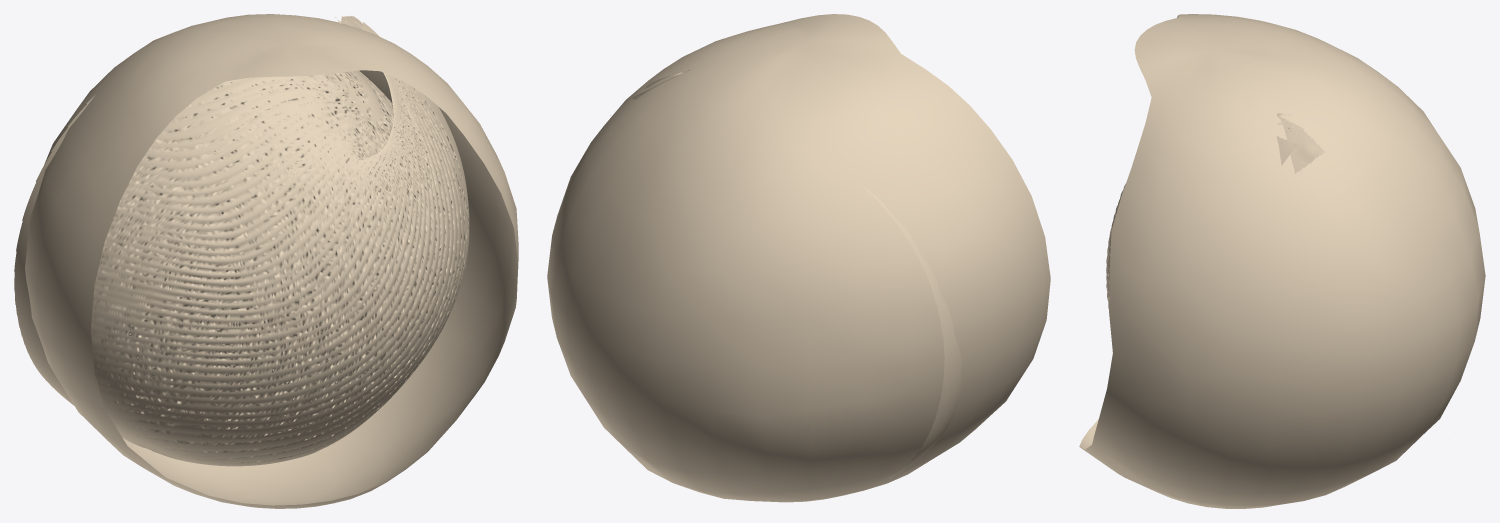
3 views of the same model, side by side, from view 1: azimuth 30°, elevation 25°; view 2: azimuth 150°, elevation 25°; view 3: azimuth 270°, elevation 25° (orthographic). The views are drawn at different scales.
Parts seen in each view (by area): view 1: circle_cut_001001, Sphere; view 2: Sphere, circle_cut_001001; view 3: Sphere, circle_cut_001001.
Part boxes in pixels (x1,y1,x2,y2): circle_cut_001001: (14,16,469,466); Sphere: (25,14,518,508); Sphere: (547,14,1050,502); circle_cut_001001: (610,69,961,478); Sphere: (1079,14,1485,508); circle_cut_001001: (1106,113,1324,308).
Bounding box in the file's own units: 79807 × 76501 × 65166.
